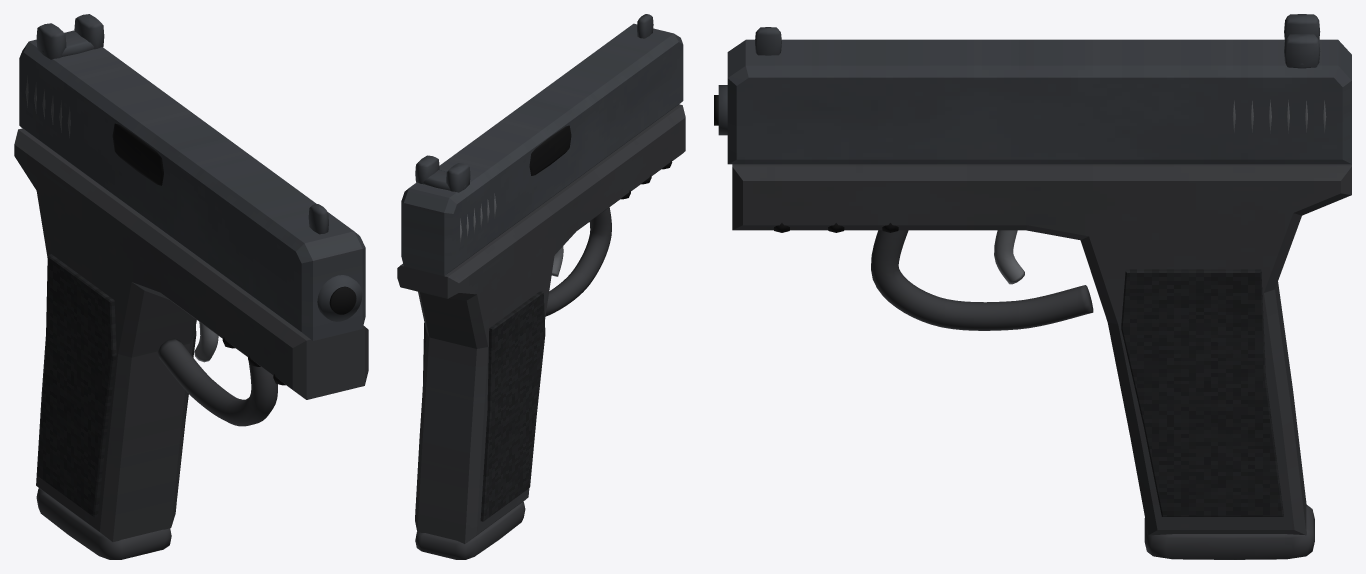
File: Pistol.glb
The picture shows the model from 3 angles, left to right: view 1: azimuth 30°, elevation 25°; view 2: azimuth 150°, elevation 25°; view 3: azimuth 270°, elevation 25°; orthographic projection. The views are drawn at different scales.
Visible parts, largest first — view 1: Body, ChargingHandle, Magazine; view 2: Body, ChargingHandle, Magazine; view 3: Body, ChargingHandle, Magazine.
Boxes of the visible parts, <box> form: Body: <box>14,128,368,541</box>; ChargingHandle: <box>19,14,365,340</box>; Magazine: <box>36,488,171,559</box>; Body: <box>397,104,685,543</box>; ChargingHandle: <box>401,14,683,275</box>; Magazine: <box>415,501,525,559</box>; Body: <box>714,85,1351,535</box>; ChargingHandle: <box>727,14,1351,164</box>; Magazine: <box>1144,505,1314,559</box>.
Bounding box in the file's own units: 0.1392 × 0.7584 × 0.846.
Materials: 1 (1 with a texture image).
